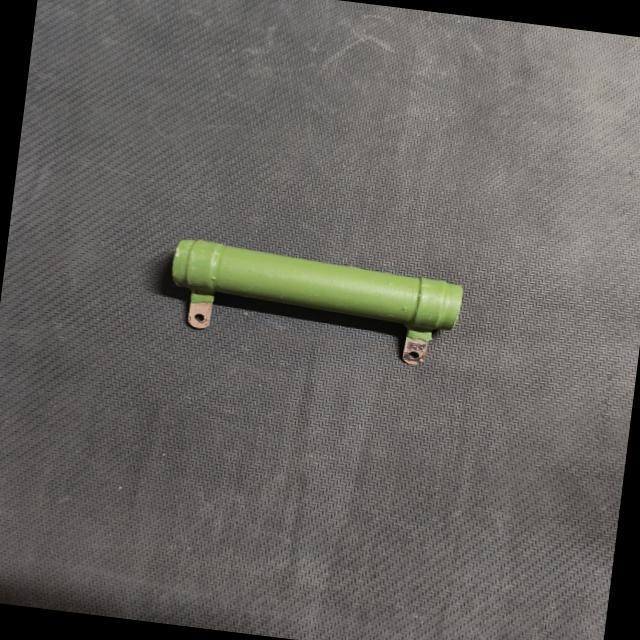resistor: (138, 216, 486, 376)
